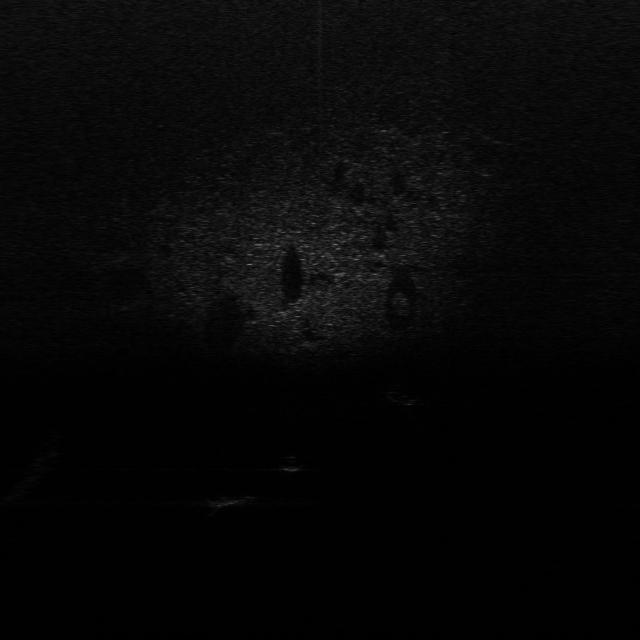ball: (279, 453, 303, 473)
square cage: (208, 488, 260, 510)
tyre: (386, 383, 420, 407)
